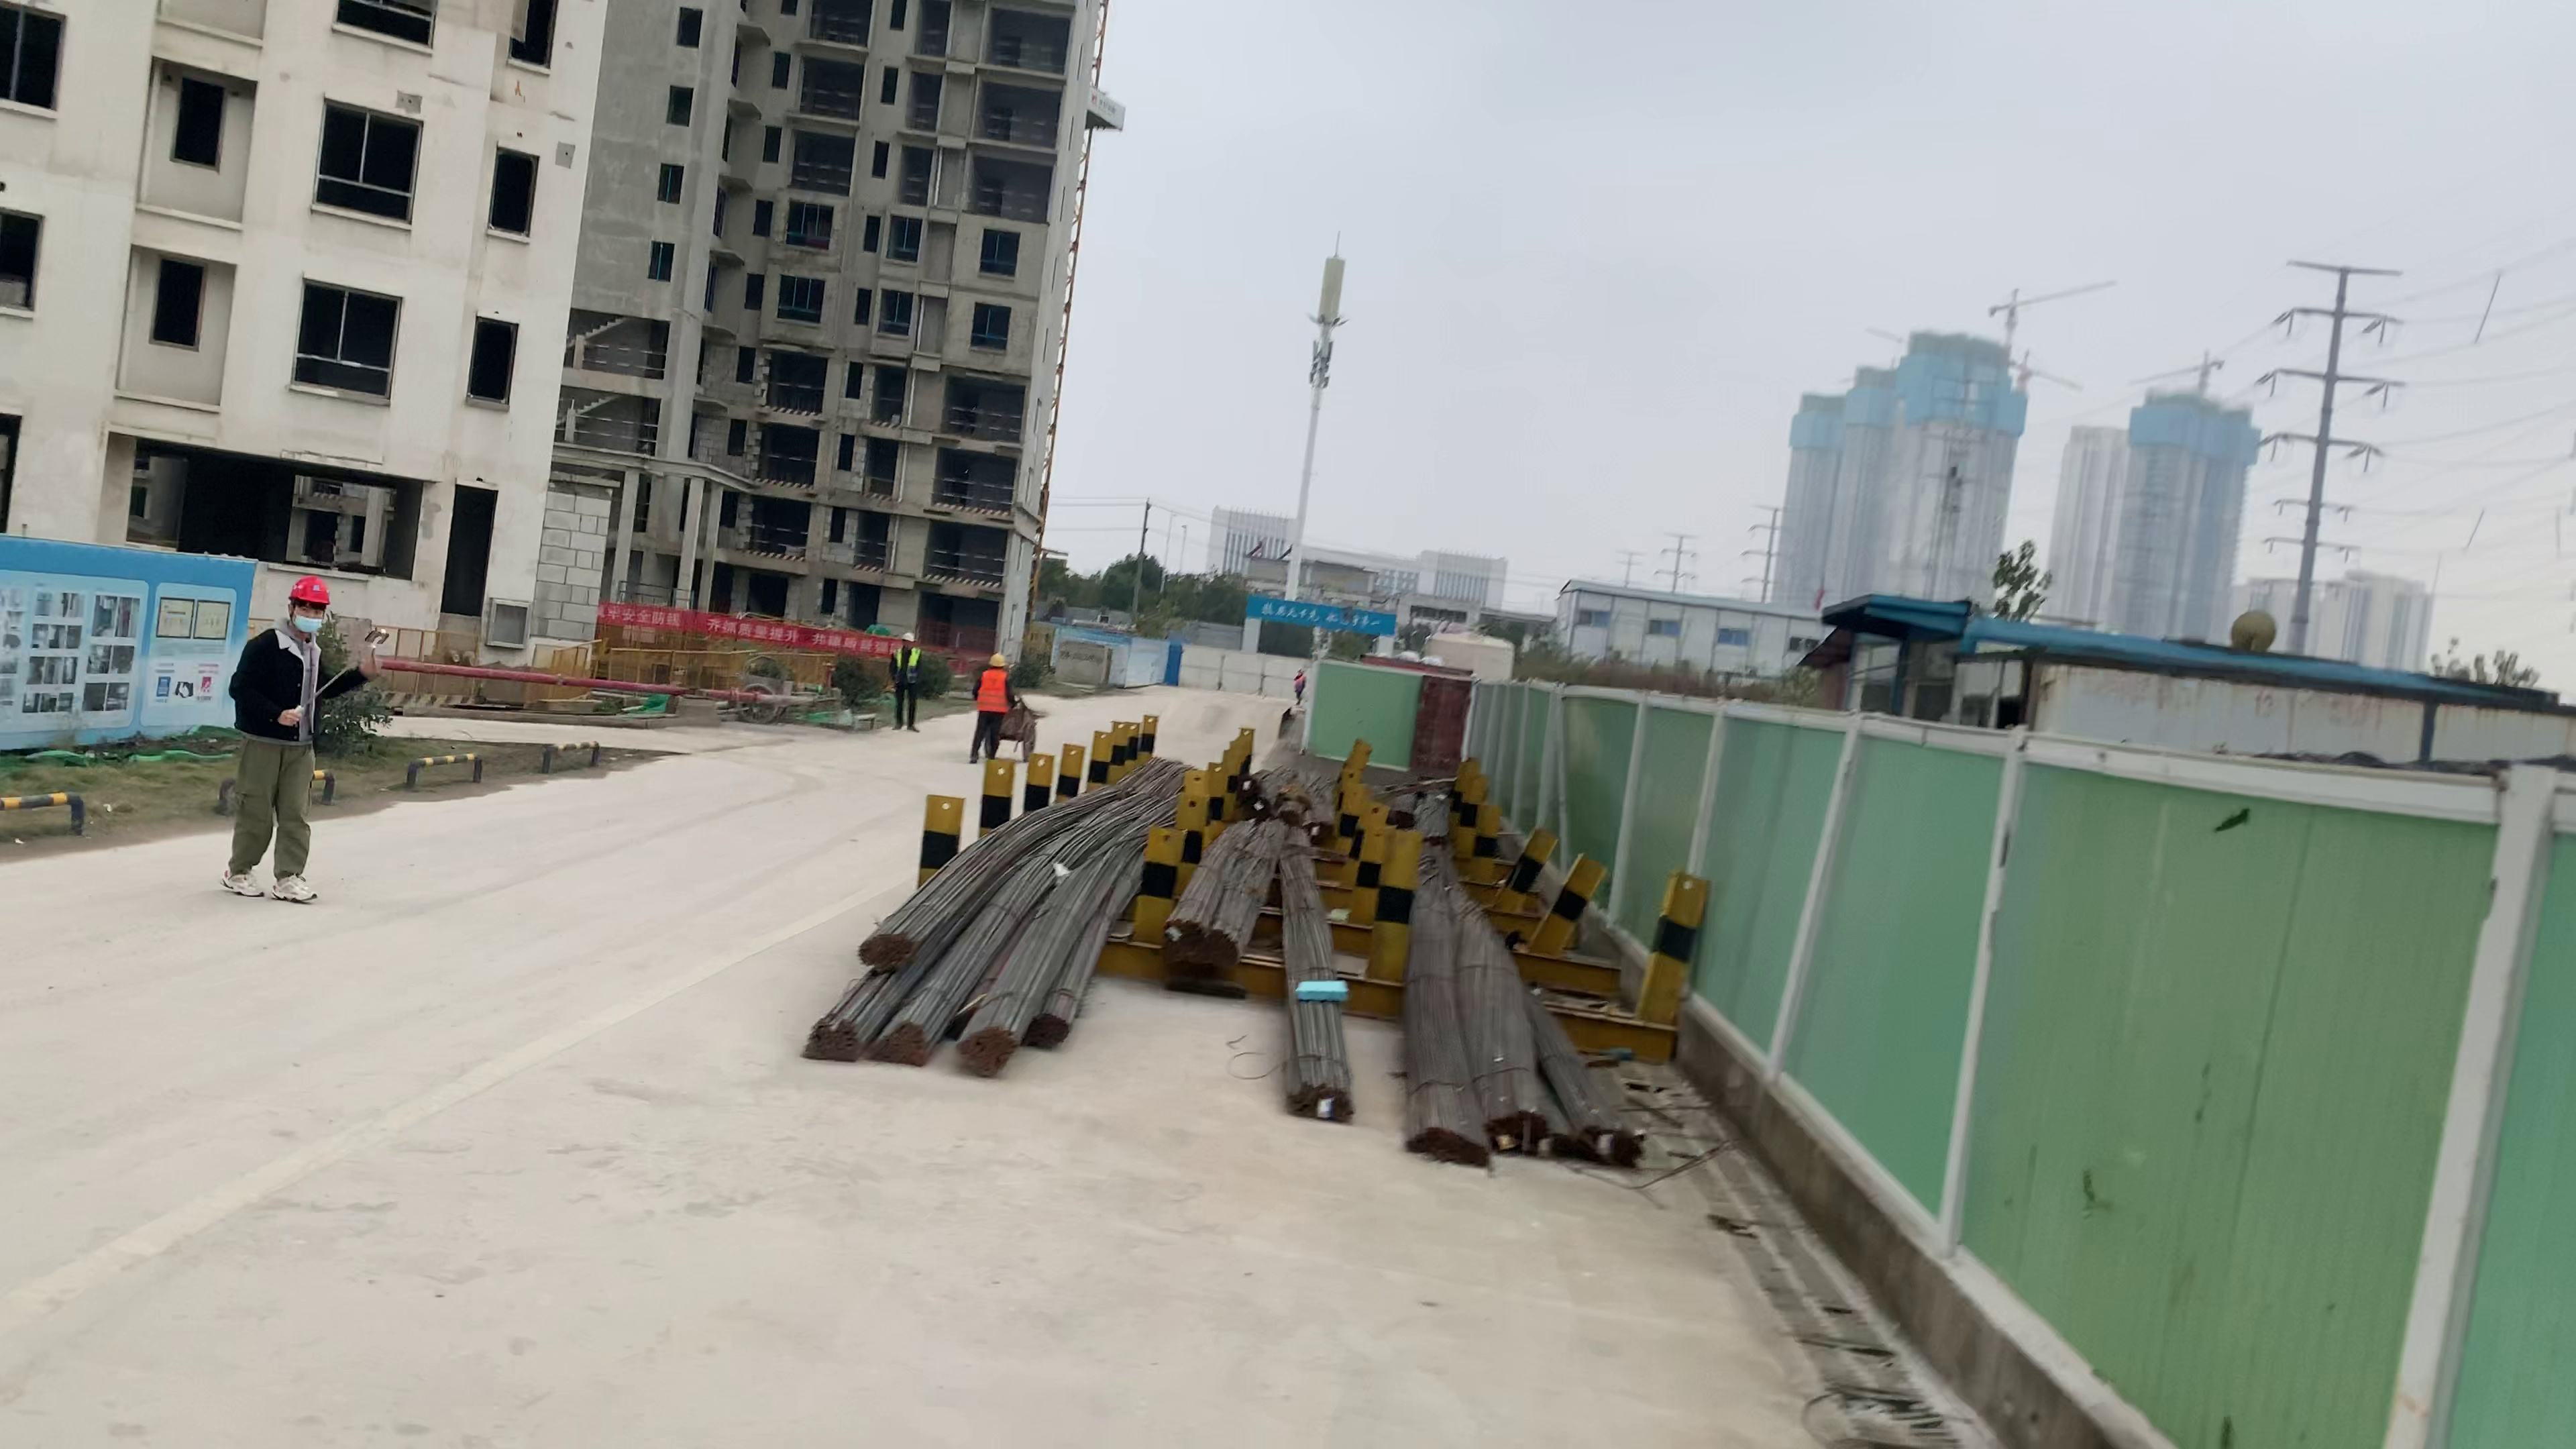rebar: (1403, 1113, 1483, 1171), (1578, 1108, 1645, 1177), (1484, 1104, 1545, 1161), (954, 1028, 1023, 1076), (1290, 1067, 1353, 1118), (816, 1016, 865, 1063), (853, 932, 918, 968), (874, 1028, 931, 1065), (1155, 924, 1201, 964), (1207, 924, 1235, 968), (1028, 1014, 1063, 1042)
